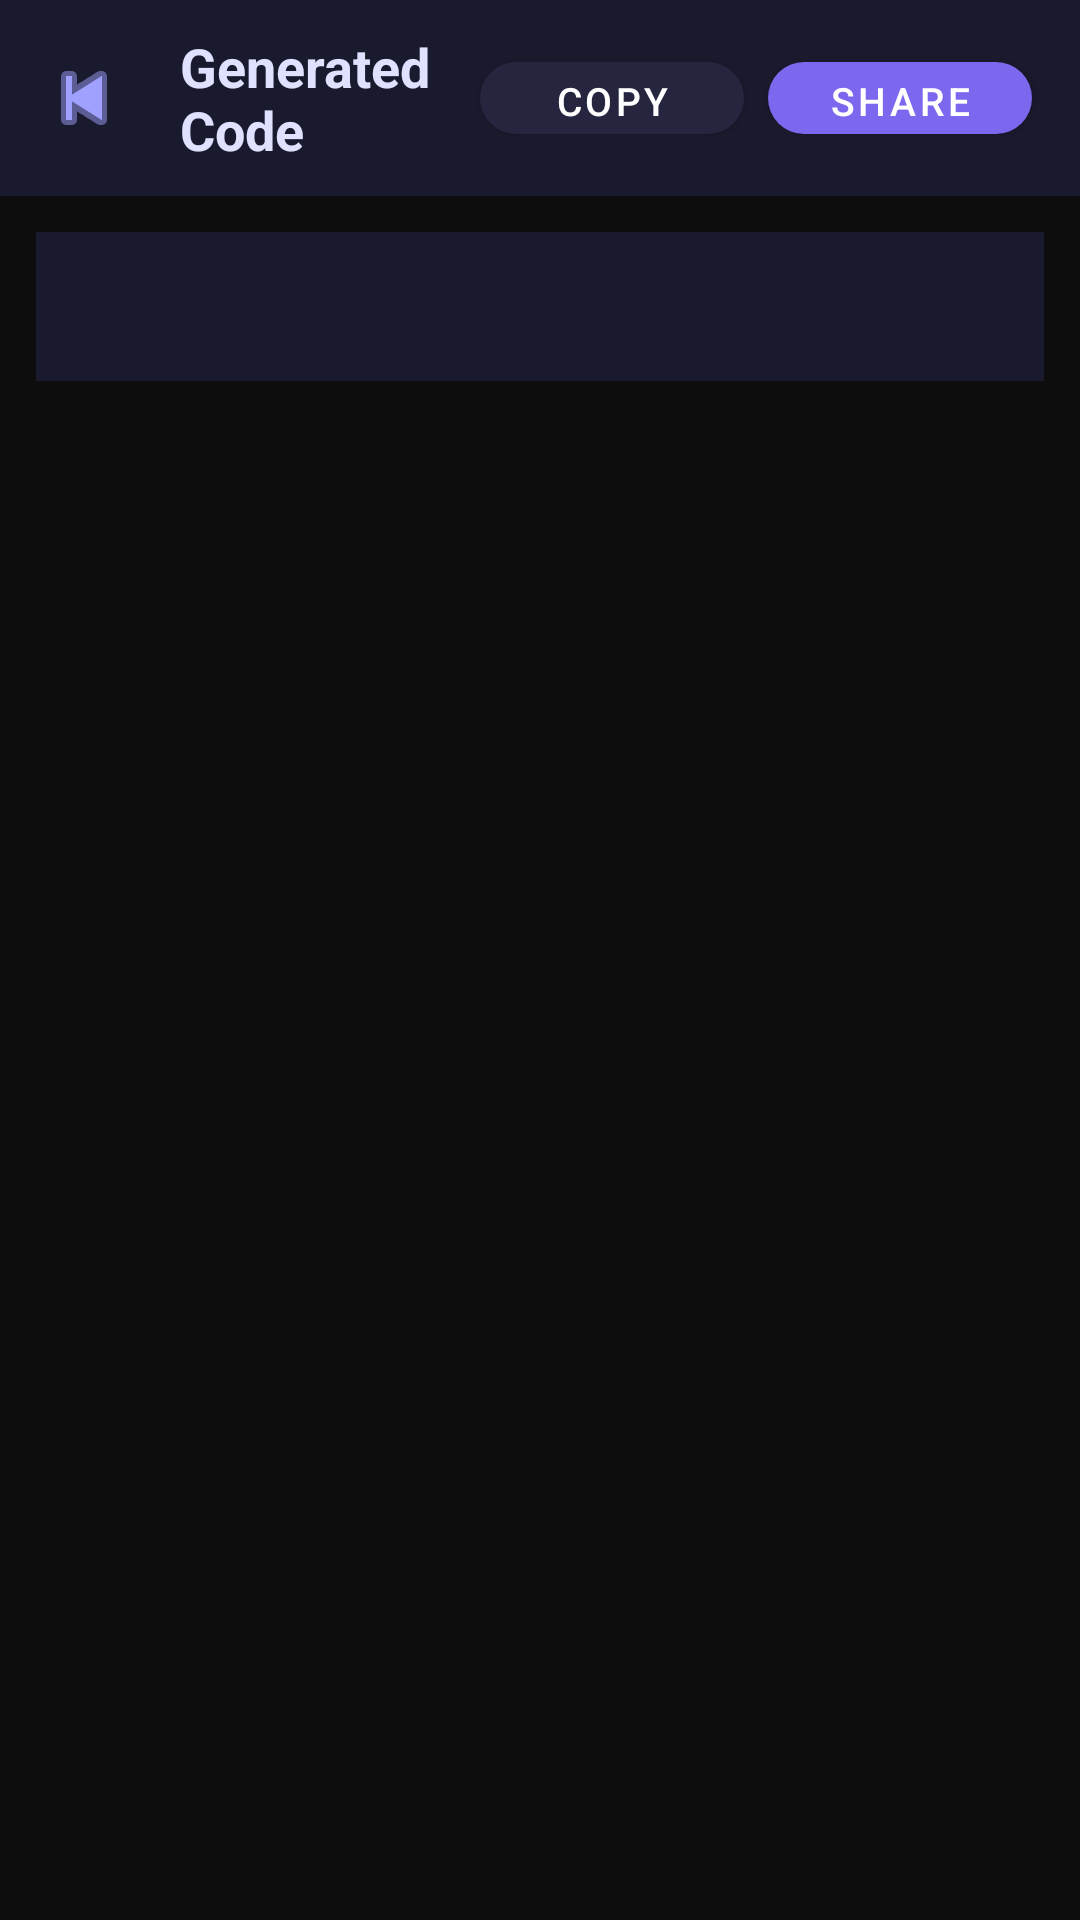

Icon click points for this 1080 x 1920 phone screenshot, format (x=x, y=y):
Back: (x=84, y=98)
